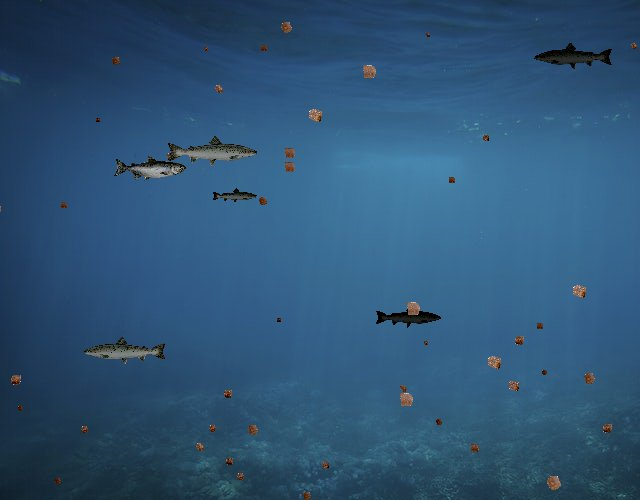Fish: (165, 135, 259, 168), (82, 335, 168, 366), (534, 42, 615, 71), (114, 156, 187, 182), (374, 304, 442, 329), (211, 187, 258, 204)
Pellet: (76, 422, 92, 438), (478, 131, 492, 145), (538, 366, 551, 379), (200, 44, 210, 54)
